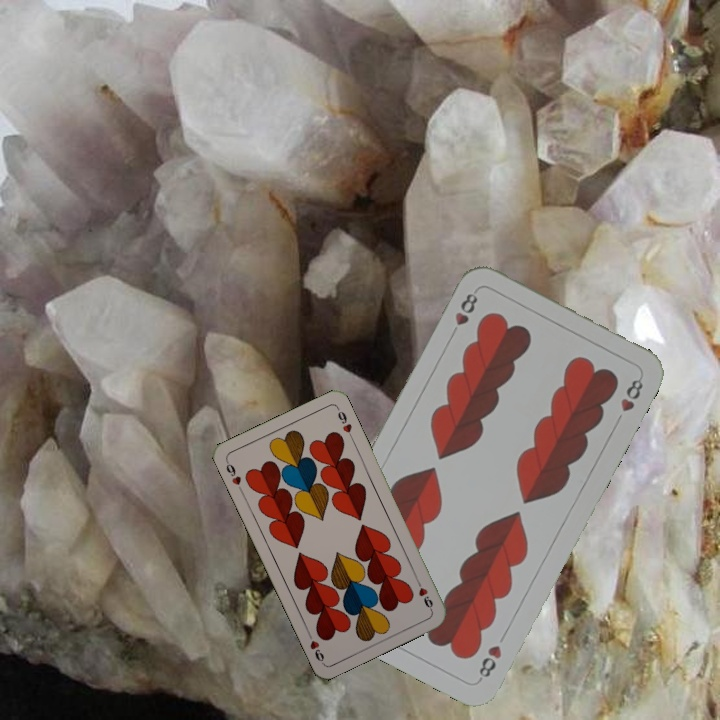H8: (446, 289, 481, 340), (474, 641, 505, 684)
H9: (222, 456, 245, 495), (412, 575, 435, 613)
